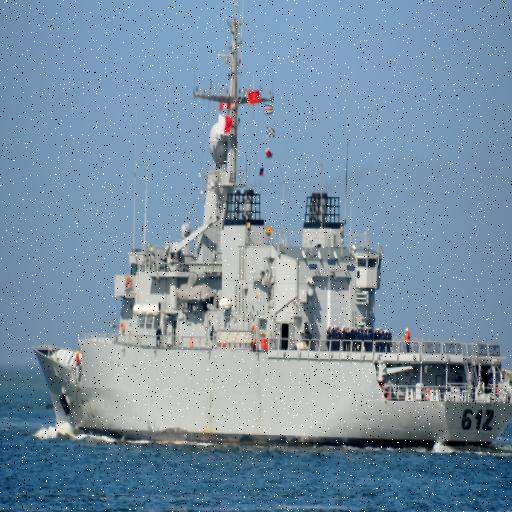Fragata: (31, 8, 512, 448)
